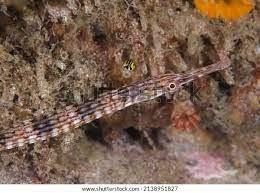Long-Snouted Pipefish: (0, 57, 233, 156)
